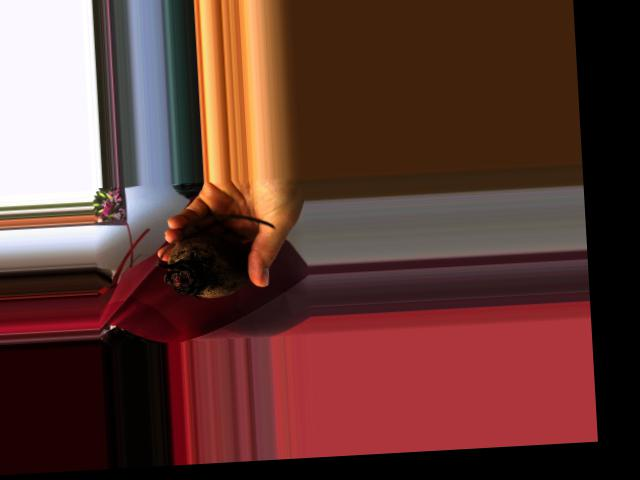beet: (152, 212, 278, 301)
